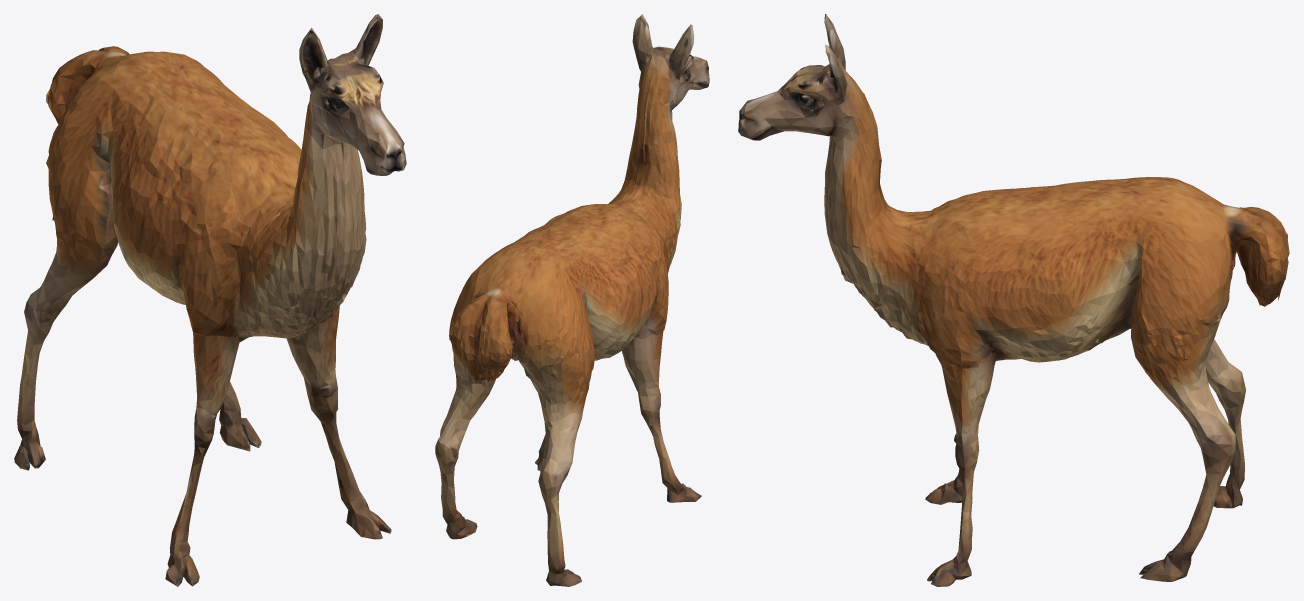
Rendered from Hemiauchenia__0418231201_texture.obj.
3 views of the same model, side by side, from view 1: azimuth 30°, elevation 25°; view 2: azimuth 150°, elevation 25°; view 3: azimuth 270°, elevation 25° (orthographic). The views are drawn at different scales.
Parts seen in each view (by area): view 1: Hemiauchenia__0418231201_texture; view 2: Hemiauchenia__0418231201_texture; view 3: Hemiauchenia__0418231201_texture.
Part boxes in pixels (box(x1,y1,x2,y2)): Hemiauchenia__0418231201_texture: box(14, 14, 406, 586); Hemiauchenia__0418231201_texture: box(435, 14, 709, 586); Hemiauchenia__0418231201_texture: box(738, 14, 1289, 586).
Size of the model in its own units: 0.7898 by 2.01 by 1.96.
Materials: 1 (1 with a texture image).
